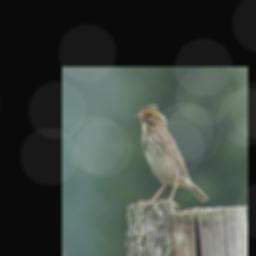Sparrow: (135, 104, 210, 213)
